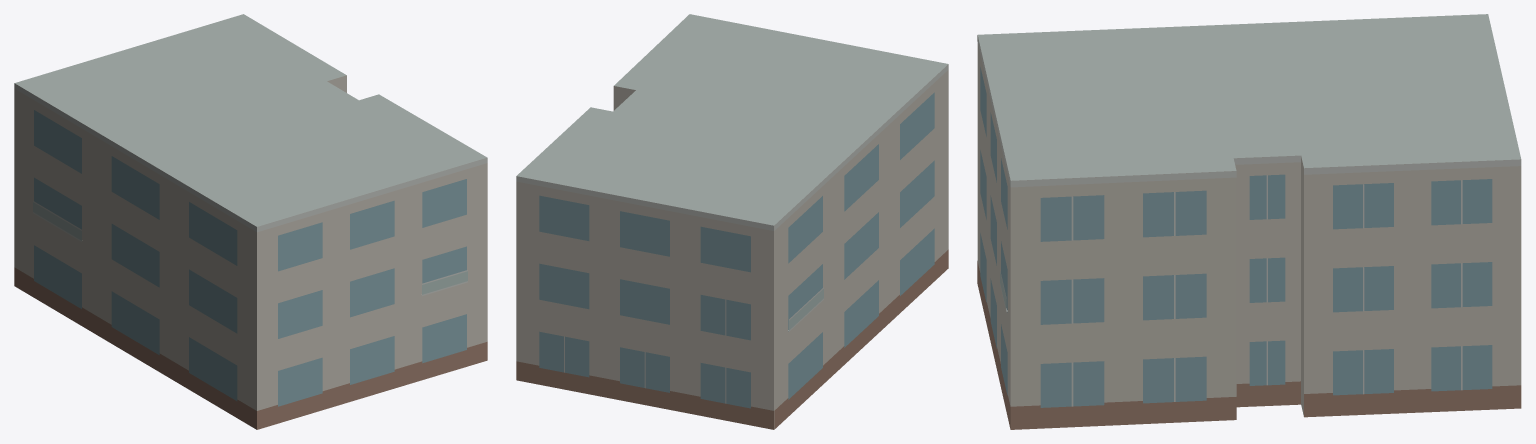
File: survey-upis-32655290.glb
3 views of the same model, side by side, from view 1: azimuth 30°, elevation 25°; view 2: azimuth 150°, elevation 25°; view 3: azimuth 270°, elevation 25° (orthographic). The views are drawn at different scales.
Parts seen in each view (by area): view 1: survey-upis-32655290.tmp; view 2: survey-upis-32655290.tmp; view 3: survey-upis-32655290.tmp.
Part boxes in pixels (bbox=[...]): survey-upis-32655290.tmp: bbox=[14, 14, 487, 429]; survey-upis-32655290.tmp: bbox=[516, 14, 948, 429]; survey-upis-32655290.tmp: bbox=[977, 14, 1521, 429].
Size of the model in its own units: 13.15 by 9.15 by 18.12.
